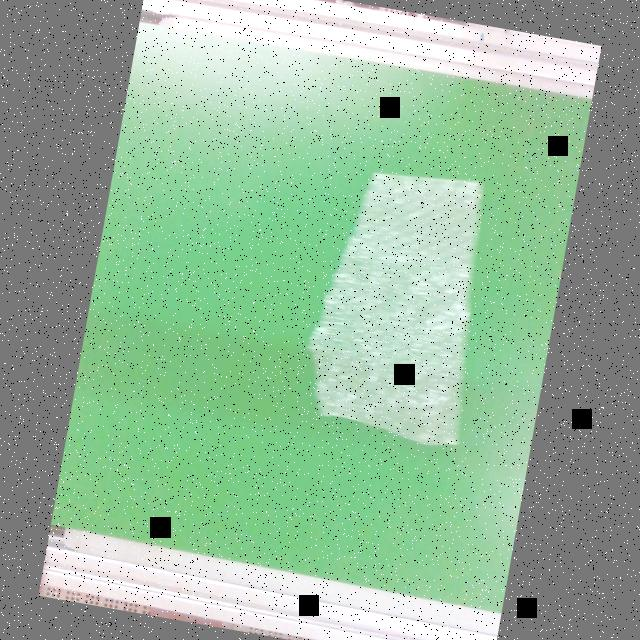scrap_plastic: (294, 152, 501, 459)
